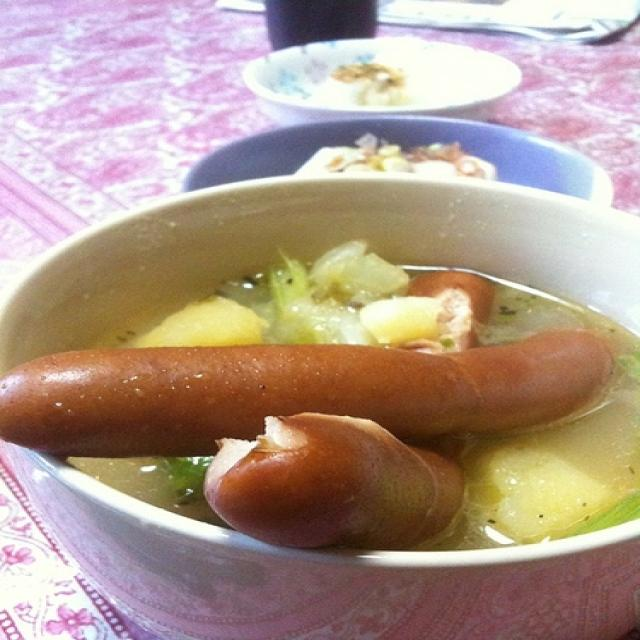汤锅炖物: (12, 188, 635, 592)
